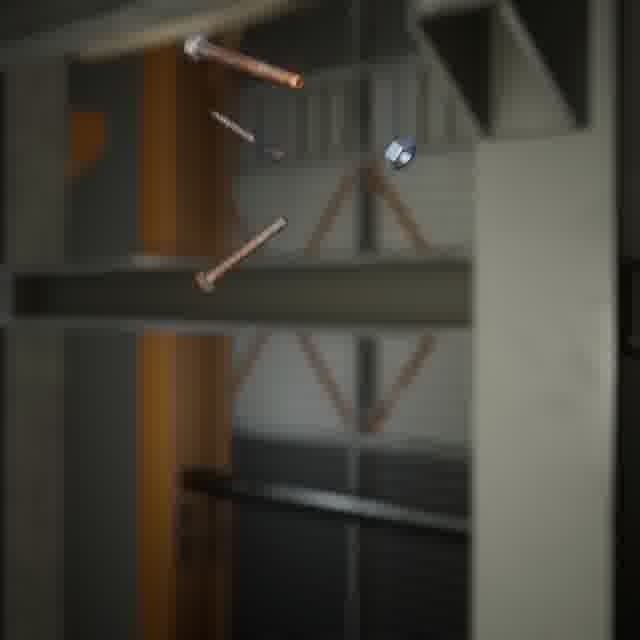bolt: (191, 210, 292, 296), (180, 29, 308, 94), (206, 106, 287, 168)
nut: (380, 131, 420, 174)
